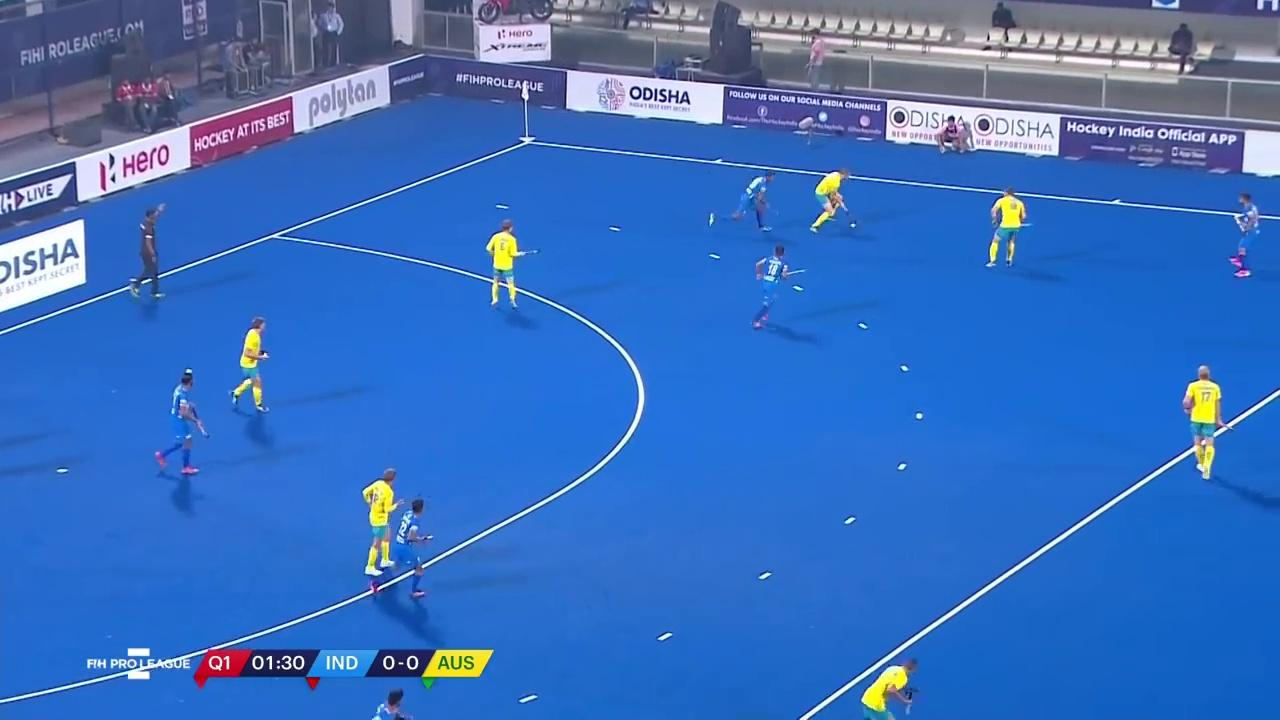ball: (848, 217, 858, 231)
